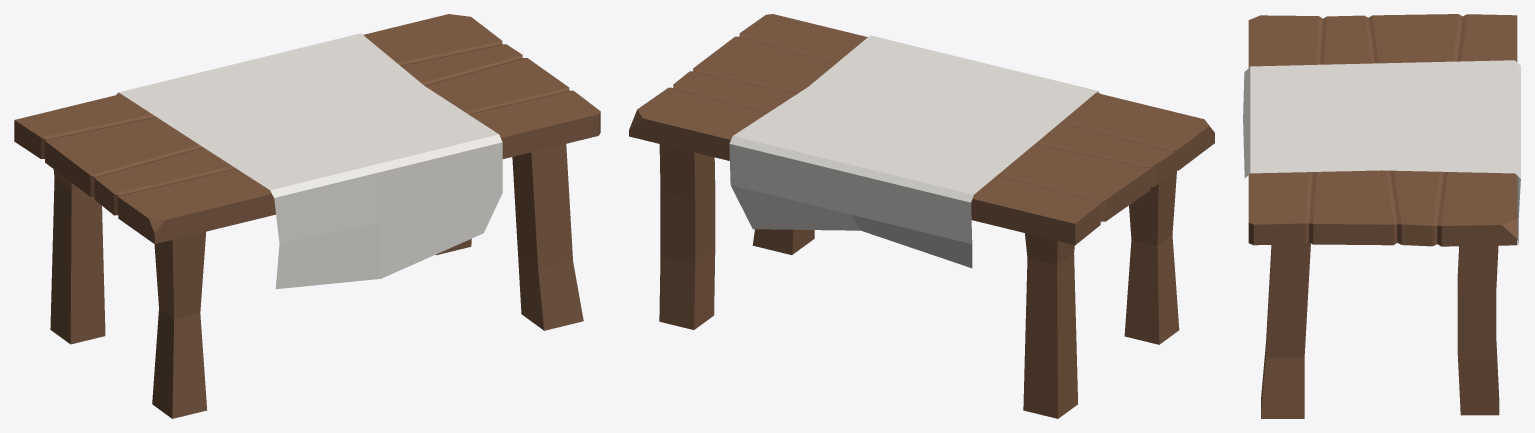
File: Table.fbx
3 views of the same model, side by side, from view 1: azimuth 30°, elevation 25°; view 2: azimuth 150°, elevation 25°; view 3: azimuth 270°, elevation 25° (orthographic). The views are drawn at different scales.
Parts seen in each view (by area): view 1: Table; view 2: Table; view 3: Table.
Part boxes in pixels (x1,y1,x2,y2): Table: (14,14,600,418); Table: (629,14,1214,418); Table: (1243,14,1520,418).
Size of the model in its own units: 128 by 58.2 by 72.02.
